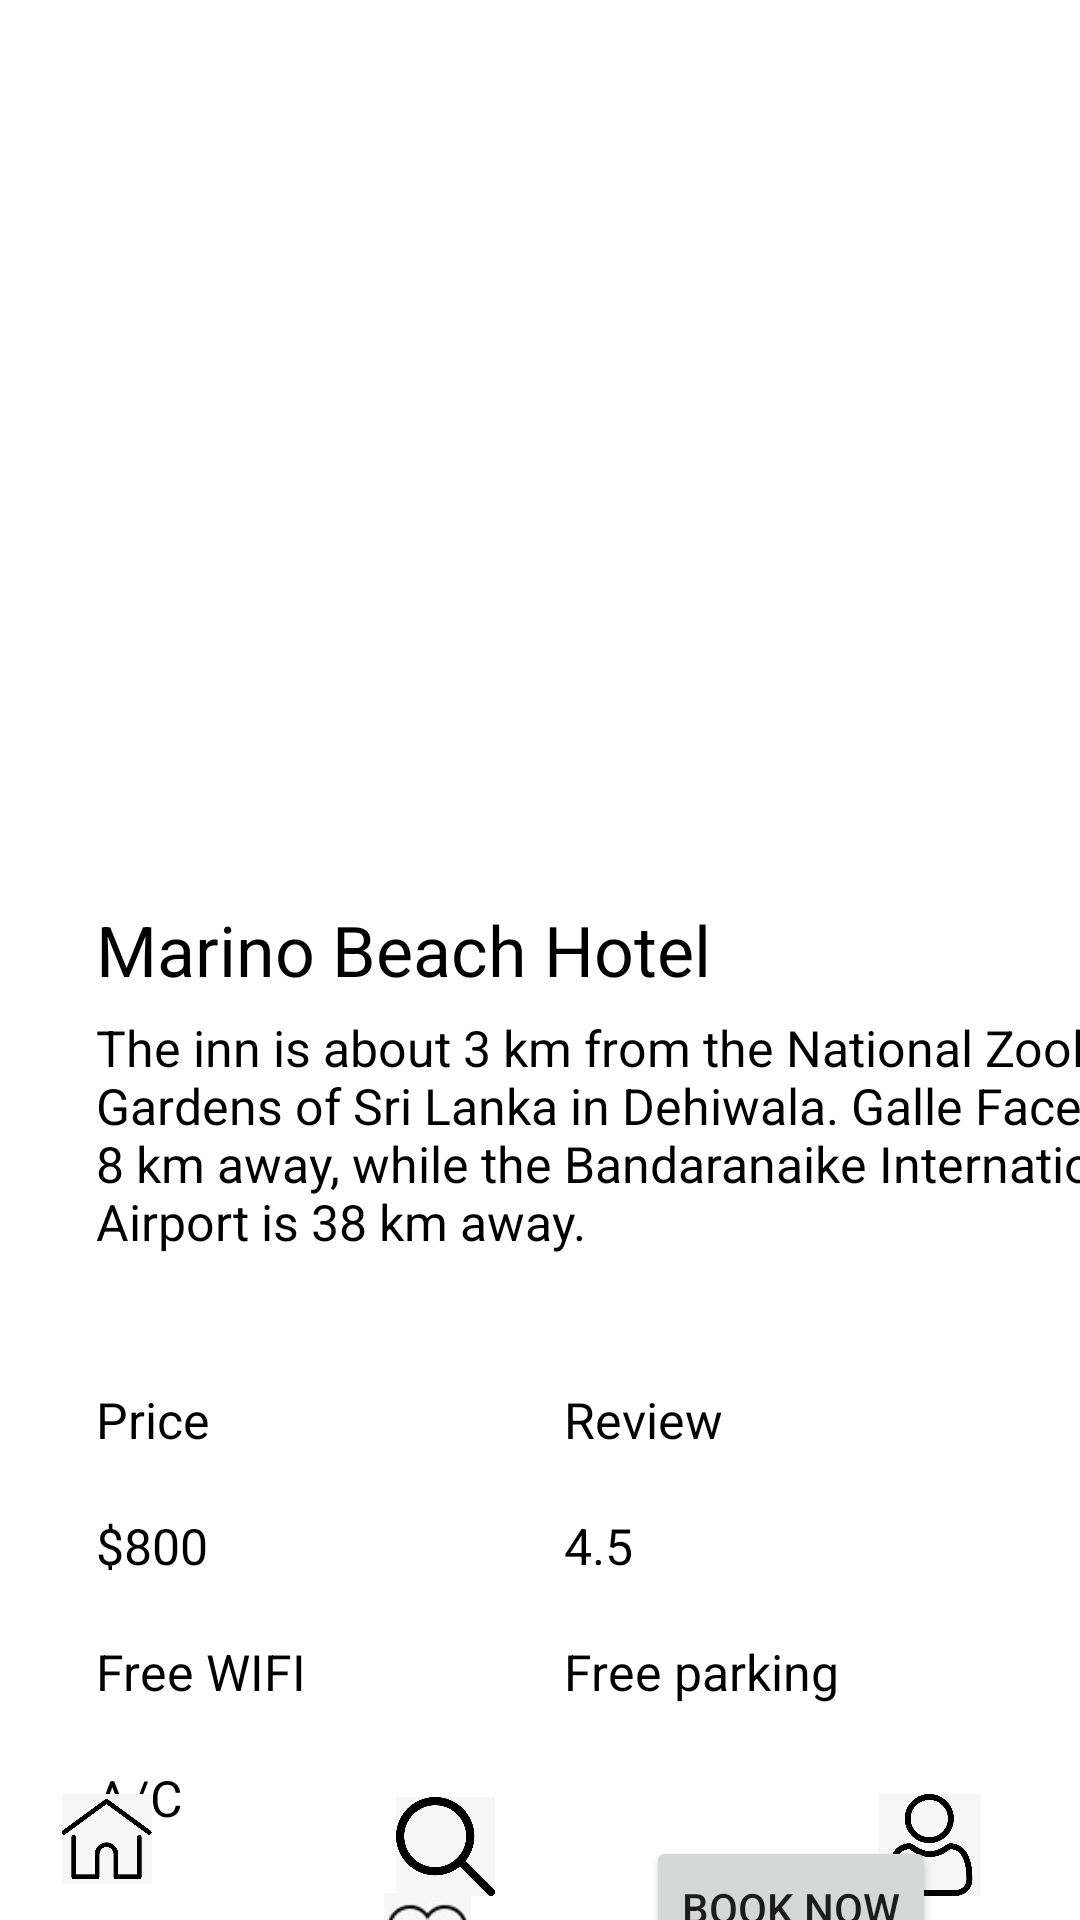

Named icons in this screenshot (1080 x 1920) and their centers, [x,y]:
home: [107,1839]
loupe: [445,1846]
user: [924,1845]
